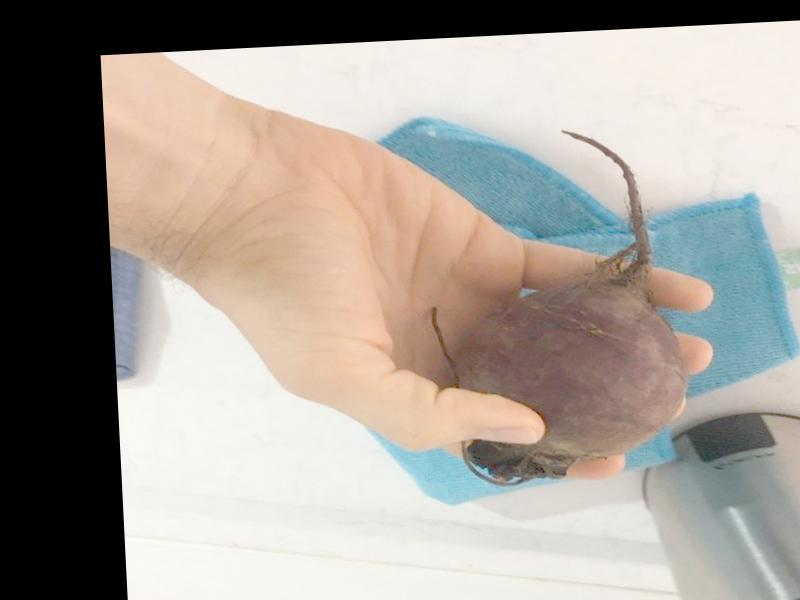Beet: (424, 124, 691, 488)
